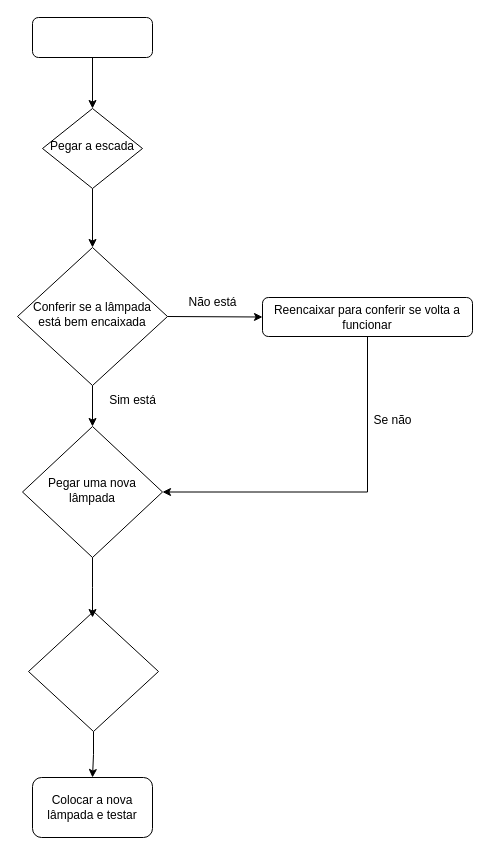
Some shapes in this 490 by 855 pixel diagram are drawn without their labels. The shapes that lost their labels are listed below. From the top down, each one's centre as x and y in pixels, then its label:
the point at 92,37: Lâmpada não funciona
the point at 93,671: Tirara lâmpada queimada
